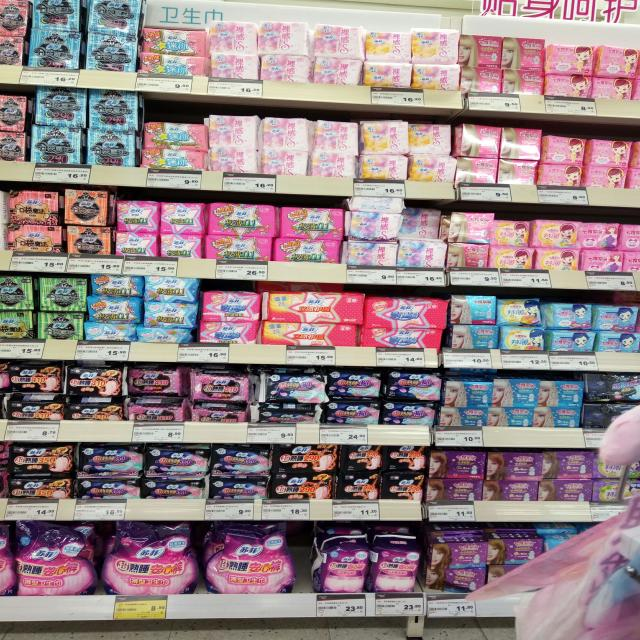unorganised: (407, 121, 457, 154), (401, 203, 443, 239)
